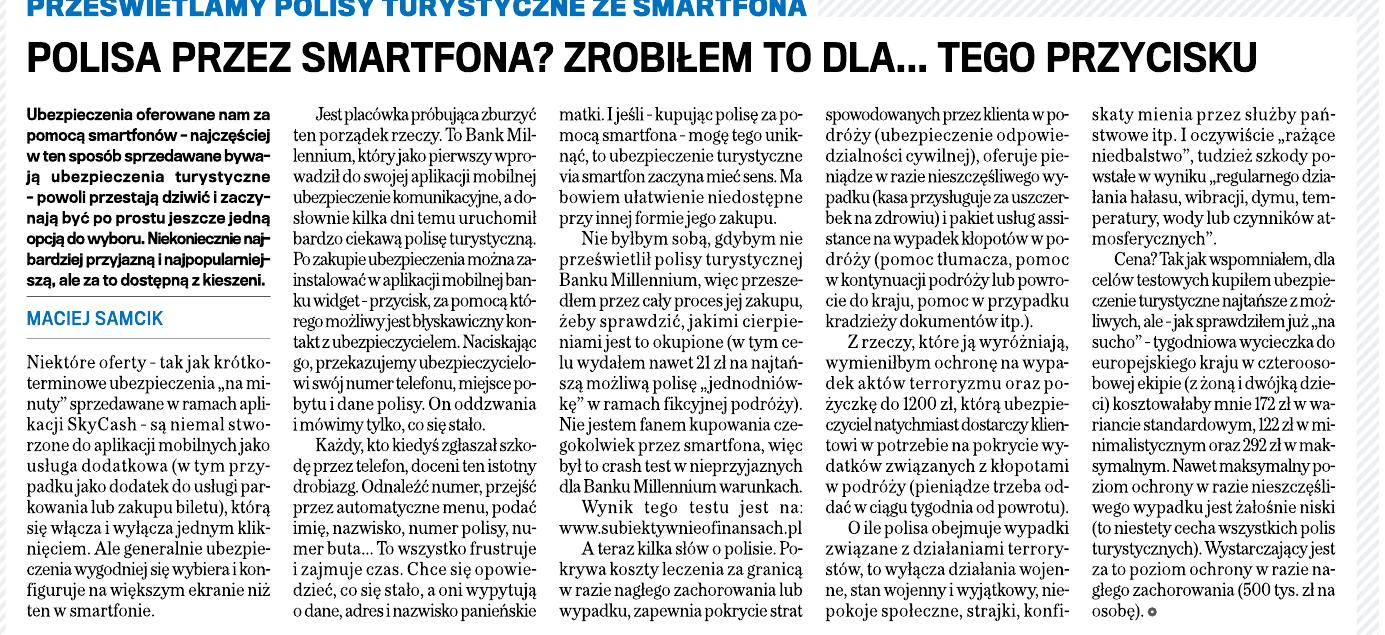author: (19, 305, 173, 333)
body: (1082, 103, 1346, 627), (817, 100, 1075, 627), (552, 100, 810, 623), (289, 102, 545, 624), (17, 346, 279, 623)
lead: (22, 102, 275, 292)
title: (22, 0, 1270, 86)
